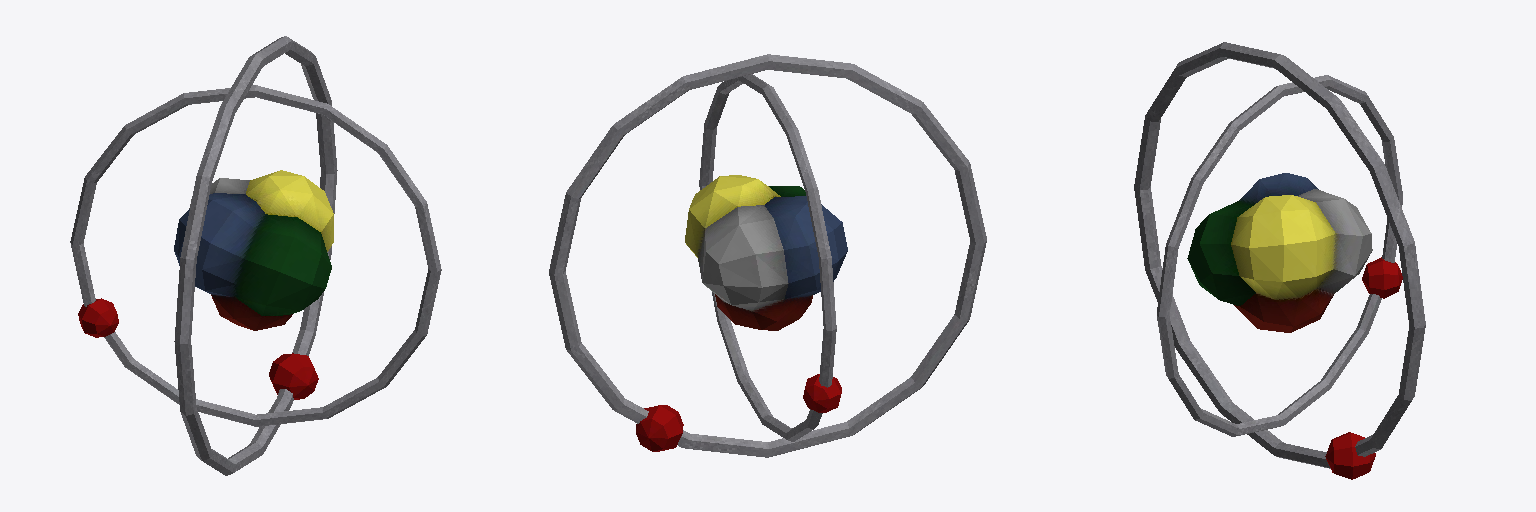
3 views of the same model, side by side, from view 1: azimuth 30°, elevation 25°; view 2: azimuth 150°, elevation 25°; view 3: azimuth 270°, elevation 25° (orthographic).
Parts seen in each view (by area): view 1: unwrapped2, Object09, Object10, Object12, Object11; view 2: Object09, unwrapped2, Object10, Object12, Object11; view 3: unwrapped2, Object09, Object10, Object12, Object11.
Boxes of the visible parts, x1=… form: unwrapped2: x1=174, y1=170, x2=333, y2=330; Object09: x1=174, y1=36, x2=337, y2=475; Object10: x1=70, y1=85, x2=441, y2=426; Object12: x1=269, y1=353, x2=318, y2=399; Object11: x1=78, y1=298, x2=118, y2=337; Object09: x1=549, y1=54, x2=986, y2=457; unwrapped2: x1=685, y1=175, x2=847, y2=330; Object10: x1=699, y1=74, x2=836, y2=441; Object12: x1=636, y1=405, x2=683, y2=451; Object11: x1=803, y1=374, x2=841, y2=412; unwrapped2: x1=1187, y1=173, x2=1372, y2=332; Object09: x1=1134, y1=42, x2=1425, y2=468; Object10: x1=1157, y1=75, x2=1402, y2=436; Object12: x1=1325, y1=432, x2=1375, y2=479; Object11: x1=1362, y1=257, x2=1402, y2=298.
Bounding box in the file's own units: 27.27 × 35.32 × 23.15.
Materials: 1 (1 with a texture image).